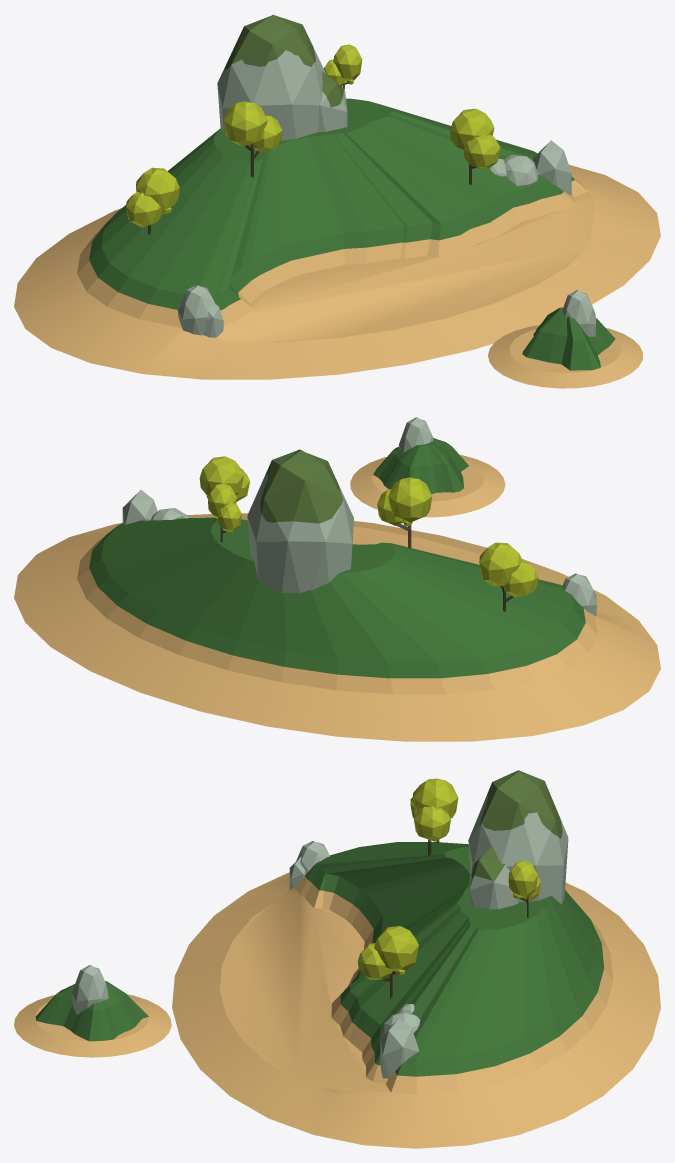
The model's file is island_1-1.glb.
3 renders of one model, top to bottom at view 1: azimuth 30°, elevation 25°; view 2: azimuth 150°, elevation 25°; view 3: azimuth 270°, elevation 25°, orthographic.
Visible parts, largest first — view 1: Cylinder003, GeoSphere019, GeoSphere016, GeoSphere009, GeoSphere013, GeoSphere010, GeoSphere017, GeoSphere020; view 2: Cylinder003, GeoSphere019, GeoSphere016, GeoSphere009, GeoSphere013, GeoSphere017; view 3: Cylinder003, GeoSphere009, GeoSphere019, GeoSphere020, GeoSphere013, GeoSphere010.
Part boxes in pixels (x1,y1,x2,y2): Cylinder003: [14, 14, 660, 388]; GeoSphere019: [223, 101, 267, 146]; GeoSphere016: [136, 167, 179, 210]; GeoSphere009: [450, 108, 494, 149]; GeoSphere013: [324, 44, 362, 86]; GeoSphere010: [463, 134, 500, 168]; GeoSphere017: [126, 191, 162, 227]; GeoSphere020: [249, 115, 282, 152]; Cylinder003: [14, 417, 660, 741]; GeoSphere019: [388, 477, 432, 522]; GeoSphere016: [479, 542, 523, 586]; GeoSphere009: [199, 456, 243, 496]; GeoSphere013: [208, 483, 241, 531]; GeoSphere017: [503, 561, 538, 597]; Cylinder003: [14, 770, 660, 1148]; GeoSphere009: [374, 926, 418, 970]; GeoSphere019: [413, 778, 458, 818]; GeoSphere020: [414, 806, 450, 841]; GeoSphere013: [508, 860, 540, 901]; GeoSphere010: [358, 943, 392, 979].
Bounding box in the file's own units: 99.77 × 35.22 × 91.73.
